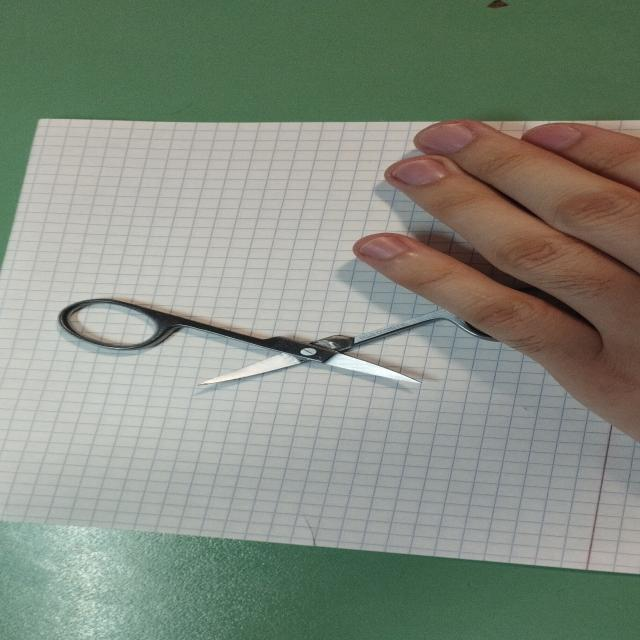tesoura: (53, 289, 588, 387)
